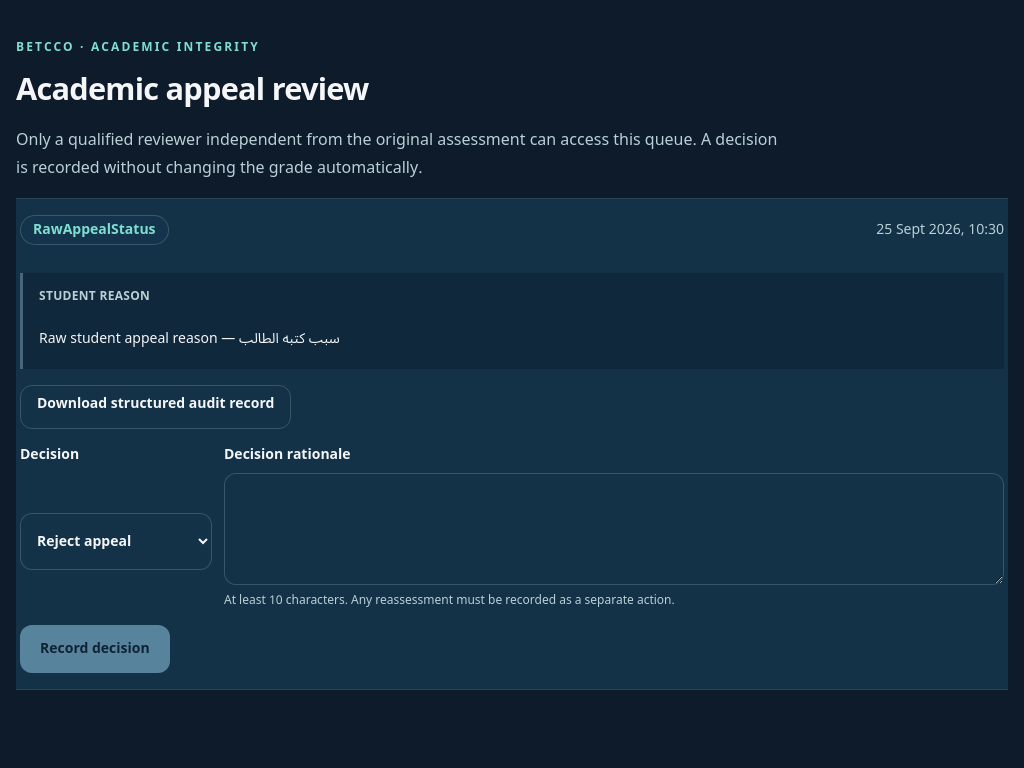
Test: Appeals en — MOCKED UI-CONTRACT EVIDENCE › keeps DOM/minimum/pending guards, exact Rejected review payload, queue-only invalidation and retained draft
expect the button "Record decision" is disabled: met, box x1=20 y1=625 x2=170 y2=673
Type "  123456789  " into the text box labelled "Decision rationale" at (614, 529), box x1=224 y1=473 x2=1004 y2=585
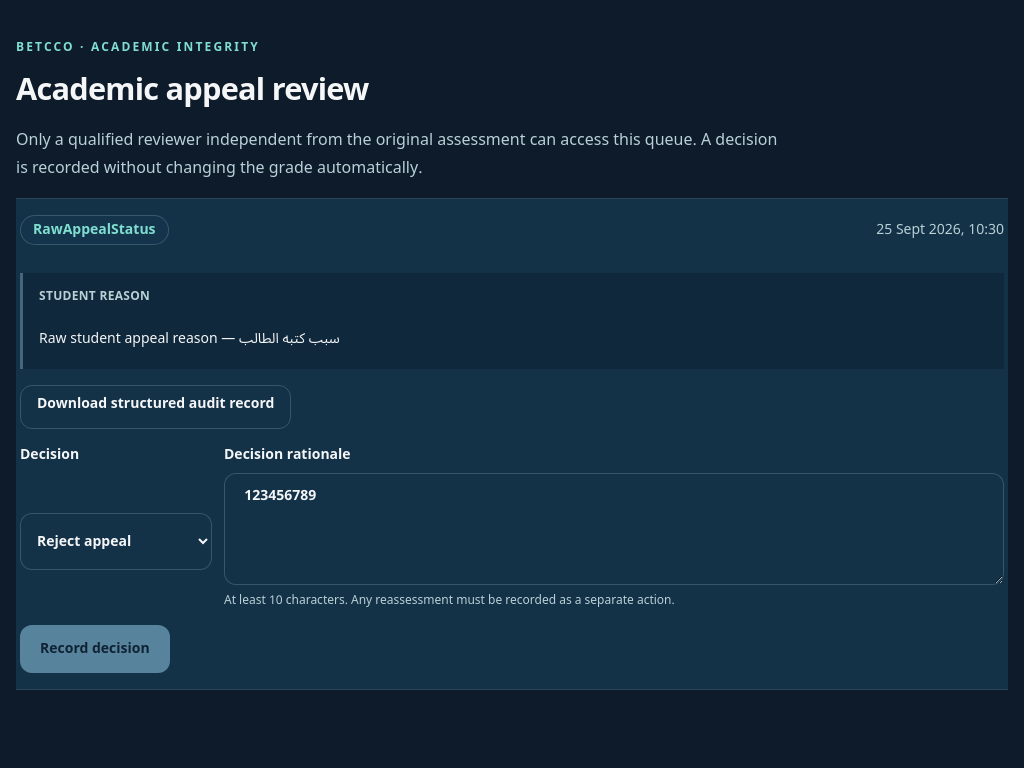
expect the button "Record decision" is disabled: met, box x1=20 y1=625 x2=170 y2=673
Replace the text in the text box labelled "Decision rationale" with "  1234567890  " at (614, 529), box x1=224 y1=473 x2=1004 y2=585
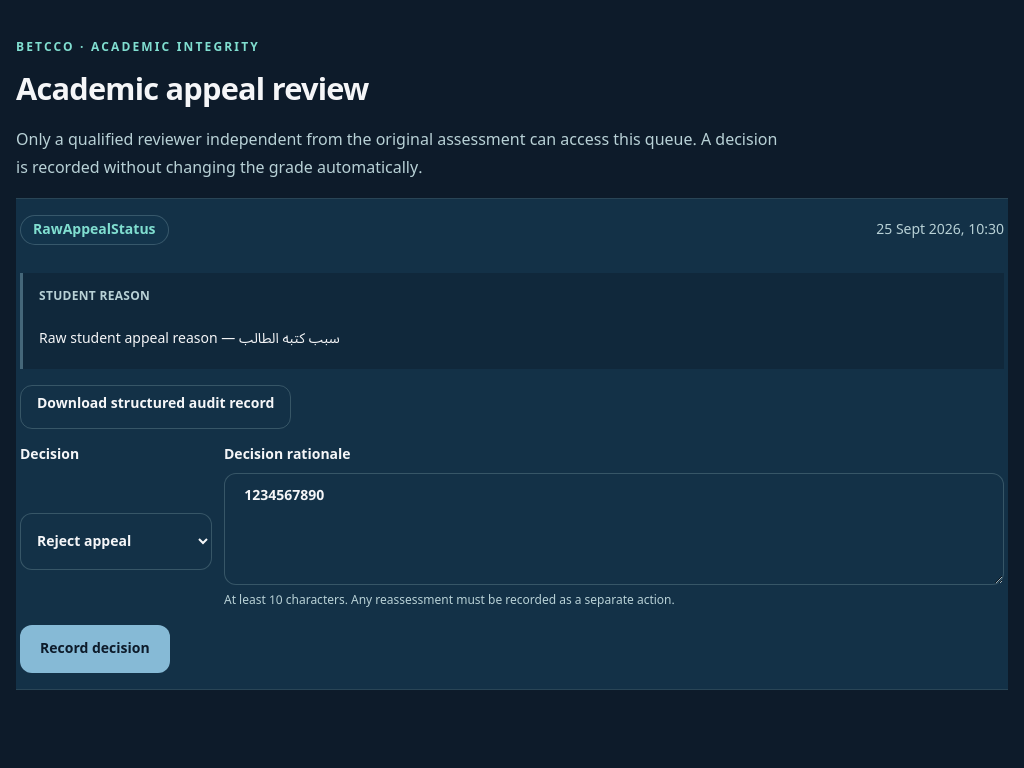
Select "Reject appeal" in the dropdown labelled "Decision" at (116, 541), box x1=20 y1=513 x2=212 y2=570
expect the button "Record decision" is enabled: met
Click the button "Record decision" at (95, 649), box x1=20 y1=625 x2=170 y2=673
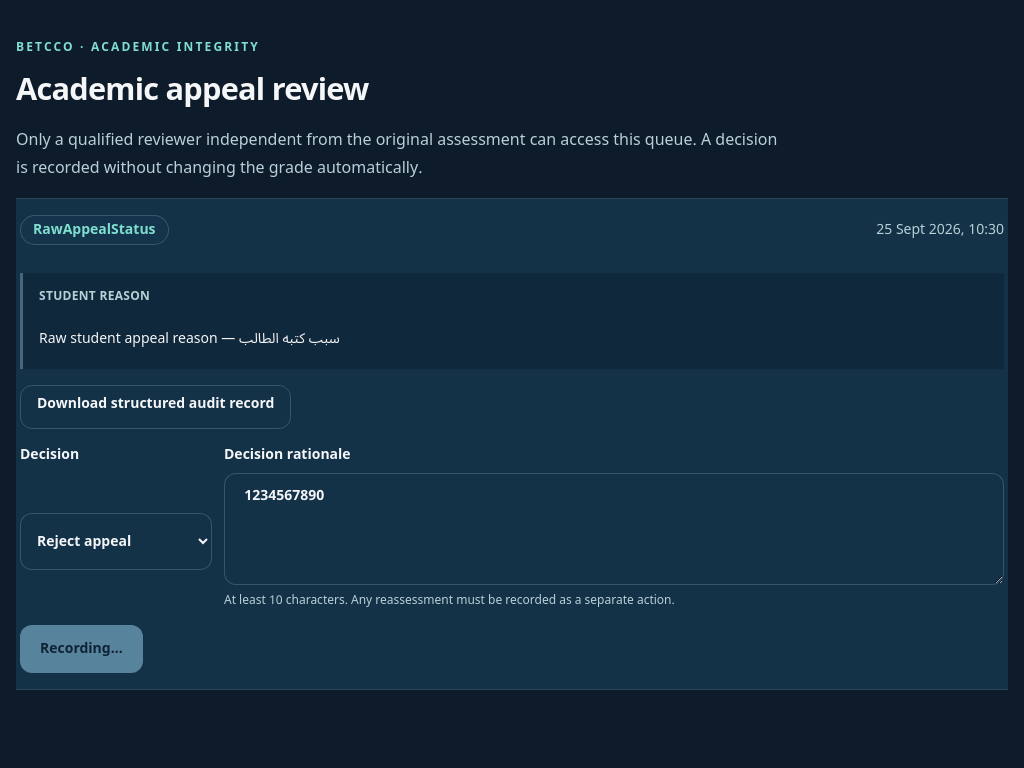
expect the button "Recording…" is disabled: met, box x1=20 y1=625 x2=143 y2=673
